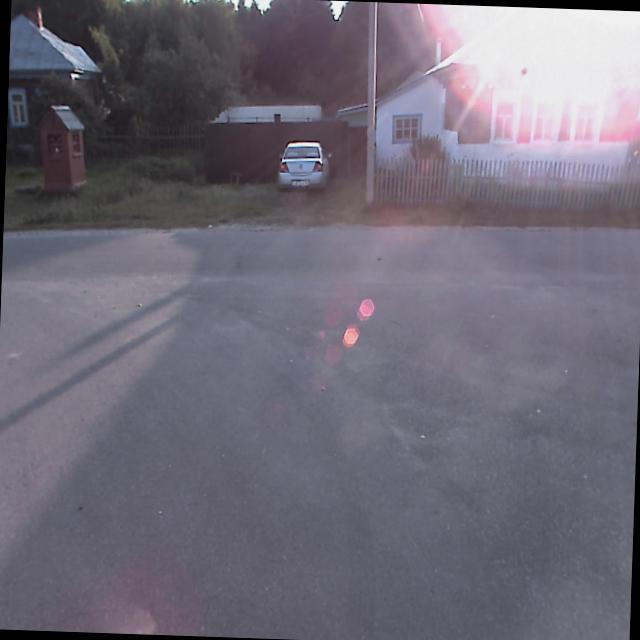road: (0, 228, 640, 640)
